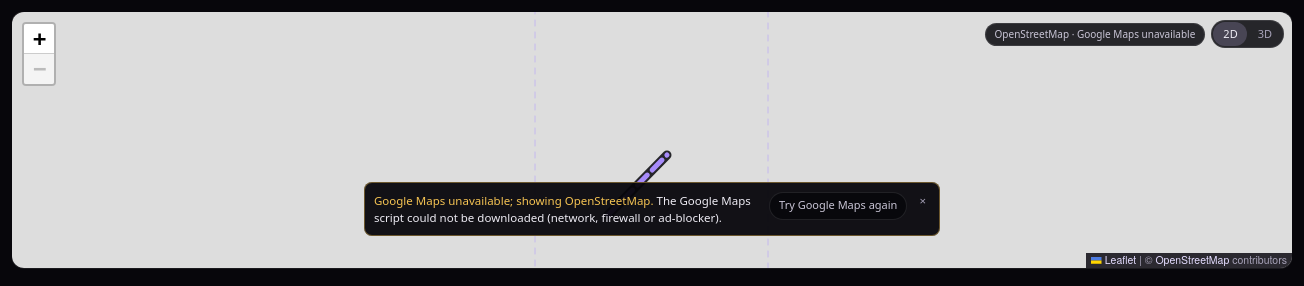
Test: Google Maps loading and failure handling › offers a retry after a network failure, and the retry renders Google Maps
Expected: the text "could not be downloaded" is shown, x1=374 y1=192 x2=751 y2=225
Click the button "Try Google Maps again" at (838, 206), box x1=769 y1=192 x2=908 y2=220
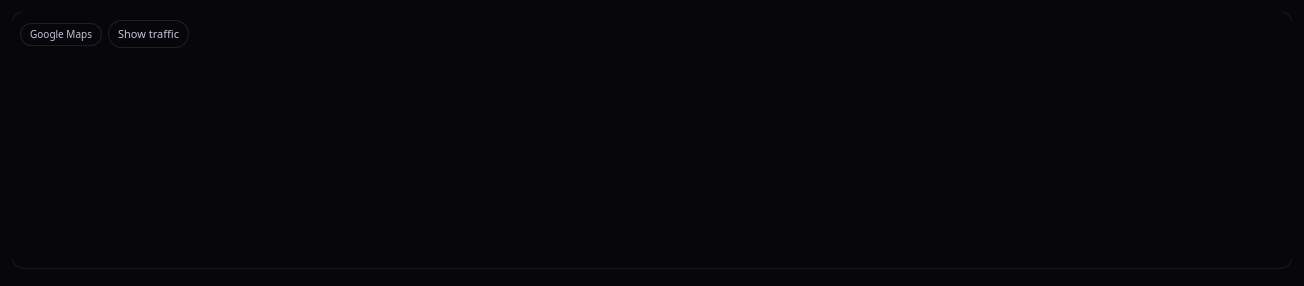
Now the element named "Google Maps" is shown
